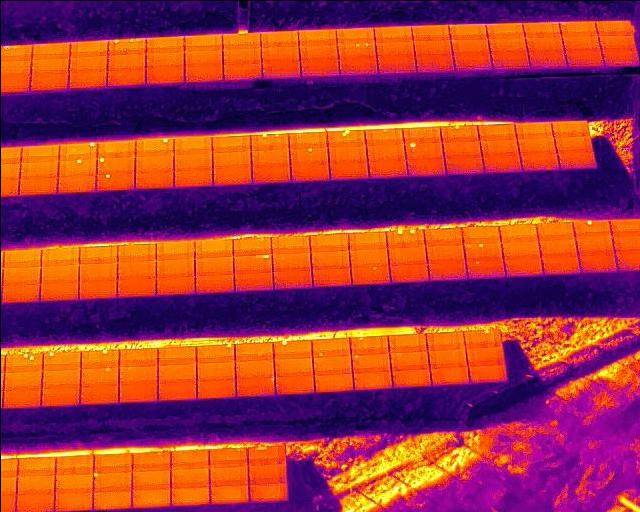Cell: (195, 343, 233, 363), (93, 471, 131, 491), (351, 264, 388, 283), (350, 335, 388, 353), (81, 350, 119, 368), (135, 137, 173, 155), (96, 172, 134, 190), (81, 368, 118, 386), (272, 340, 311, 357), (350, 352, 389, 369), (467, 258, 503, 276), (312, 339, 348, 357), (233, 254, 271, 271), (42, 352, 80, 369), (289, 147, 327, 164), (97, 156, 135, 173), (59, 142, 96, 159), (59, 159, 96, 176), (441, 125, 477, 142), (405, 142, 441, 159), (463, 330, 500, 346), (365, 128, 401, 144), (574, 219, 609, 235)
Cell-Multi: (3, 352, 41, 369), (107, 37, 145, 54), (386, 230, 423, 247), (465, 242, 502, 259), (251, 134, 288, 150), (327, 130, 363, 146), (338, 43, 374, 59), (0, 43, 31, 61)
No-Anomaly: (157, 345, 196, 365), (197, 378, 235, 398), (118, 347, 157, 366), (132, 470, 171, 489), (209, 466, 248, 485), (157, 380, 196, 399), (2, 387, 41, 406), (15, 475, 54, 494), (54, 492, 93, 511), (117, 276, 155, 295), (390, 263, 428, 282), (171, 468, 209, 487), (275, 373, 313, 392), (54, 454, 92, 473), (93, 453, 131, 472), (170, 449, 208, 468), (249, 482, 287, 501), (70, 39, 108, 58), (54, 473, 92, 492), (430, 365, 467, 384), (311, 266, 350, 284), (272, 269, 311, 287), (42, 369, 81, 387), (118, 366, 157, 384), (96, 139, 135, 157), (18, 177, 57, 195), (118, 383, 157, 401), (40, 387, 79, 405), (131, 452, 170, 470), (131, 489, 170, 507), (210, 484, 249, 502), (15, 494, 54, 512), (580, 251, 615, 271), (429, 261, 465, 280), (234, 271, 272, 289), (469, 363, 507, 381), (390, 351, 428, 369), (466, 345, 504, 363), (298, 27, 336, 45), (392, 368, 430, 386), (145, 66, 183, 84), (223, 62, 261, 80), (106, 68, 144, 86), (174, 136, 212, 154), (211, 135, 249, 153), (21, 143, 59, 161), (290, 163, 328, 181), (368, 160, 406, 178), (58, 175, 96, 193), (4, 370, 42, 388), (314, 372, 352, 390), (260, 30, 298, 48), (352, 370, 390, 388), (209, 447, 247, 465), (80, 385, 118, 403), (17, 457, 55, 475), (171, 486, 209, 504), (93, 491, 131, 509), (377, 55, 415, 73), (253, 165, 290, 183), (213, 167, 250, 185), (329, 161, 366, 179), (249, 464, 286, 482), (234, 359, 273, 376), (312, 355, 351, 372), (29, 72, 68, 89), (134, 171, 173, 188), (134, 155, 173, 172), (235, 376, 274, 393), (183, 33, 222, 50), (300, 61, 339, 78), (106, 52, 145, 69), (505, 258, 541, 276), (483, 154, 519, 172), (446, 156, 482, 174), (349, 232, 385, 250), (79, 279, 117, 296), (311, 251, 349, 268), (194, 256, 232, 273), (156, 276, 194, 293), (195, 273, 233, 290), (234, 342, 272, 359), (157, 364, 195, 381), (428, 349, 466, 366), (196, 362, 234, 379), (184, 64, 222, 81), (68, 70, 106, 87), (212, 151, 250, 168), (79, 245, 117, 262), (146, 35, 184, 52), (261, 46, 299, 63), (376, 40, 414, 57), (30, 56, 68, 73), (415, 55, 453, 72), (68, 55, 106, 72), (272, 357, 312, 373), (543, 255, 578, 273), (516, 120, 551, 138), (501, 223, 536, 241), (538, 221, 573, 239), (503, 241, 538, 259), (567, 50, 602, 68), (41, 280, 78, 297), (41, 264, 78, 281), (449, 23, 486, 40), (523, 21, 560, 38), (487, 21, 524, 38), (388, 334, 425, 351), (462, 225, 499, 242), (222, 32, 259, 49), (31, 41, 68, 58), (339, 59, 376, 76), (173, 169, 212, 185), (309, 234, 348, 250), (145, 51, 184, 67), (527, 51, 566, 67), (412, 24, 448, 41), (3, 283, 39, 300), (407, 158, 443, 175), (425, 229, 461, 246), (527, 36, 563, 53), (156, 259, 194, 275), (272, 252, 310, 268), (117, 260, 155, 276), (79, 262, 117, 278), (374, 25, 412, 41), (261, 62, 299, 78), (288, 132, 326, 148), (20, 161, 58, 177), (173, 154, 211, 170), (271, 235, 309, 251), (388, 247, 426, 263), (118, 244, 156, 260), (184, 49, 222, 65), (222, 47, 260, 63), (298, 45, 338, 60), (481, 139, 516, 156), (519, 136, 554, 153), (445, 140, 480, 157), (522, 153, 557, 170), (452, 39, 487, 56), (455, 53, 490, 70), (350, 249, 387, 265), (41, 247, 78, 263), (426, 332, 463, 348), (367, 144, 404, 160), (426, 244, 463, 260), (156, 242, 193, 258), (195, 239, 232, 255), (559, 151, 593, 168), (578, 235, 612, 252), (553, 120, 587, 137), (3, 266, 39, 282), (329, 145, 365, 161), (252, 150, 288, 166), (540, 238, 576, 254), (605, 48, 637, 66), (233, 238, 271, 253), (478, 123, 513, 139), (492, 52, 527, 68), (336, 26, 373, 41), (403, 127, 440, 142), (414, 40, 451, 55), (600, 34, 634, 50), (4, 250, 40, 265), (489, 37, 525, 52), (556, 136, 589, 152), (563, 34, 598, 49), (561, 20, 595, 35), (597, 20, 630, 35)
Unclassified: (248, 445, 285, 464)
